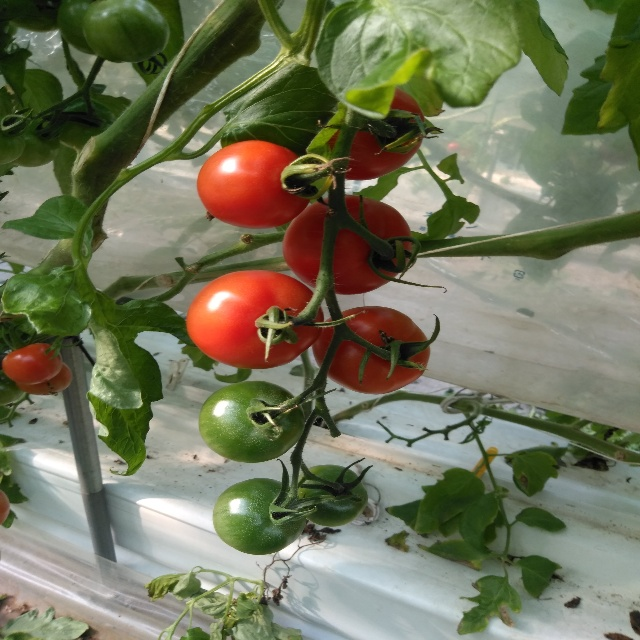l_fully_ripened: (186, 269, 324, 370), (283, 193, 413, 296), (310, 306, 430, 395), (197, 139, 312, 230), (327, 86, 424, 181), (3, 343, 63, 385)
l_green: (198, 380, 305, 464), (212, 477, 309, 555), (84, 0, 171, 63), (293, 465, 369, 527), (57, 0, 98, 57), (0, 0, 67, 33)
l_half_ripened: (15, 362, 71, 395)
